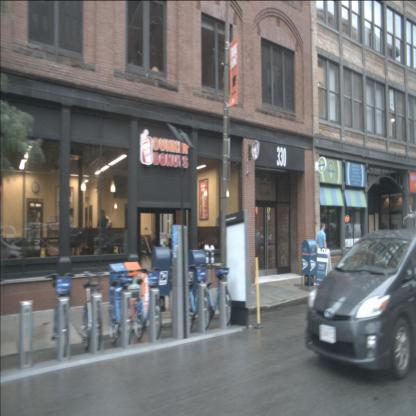human-pedestrian-adult: (316, 223, 328, 278)
vehicle-car: (304, 228, 416, 381), (92, 231, 155, 264), (9, 236, 62, 264), (66, 224, 111, 250), (336, 224, 369, 252), (0, 238, 27, 269), (196, 236, 229, 257), (0, 225, 21, 247)
